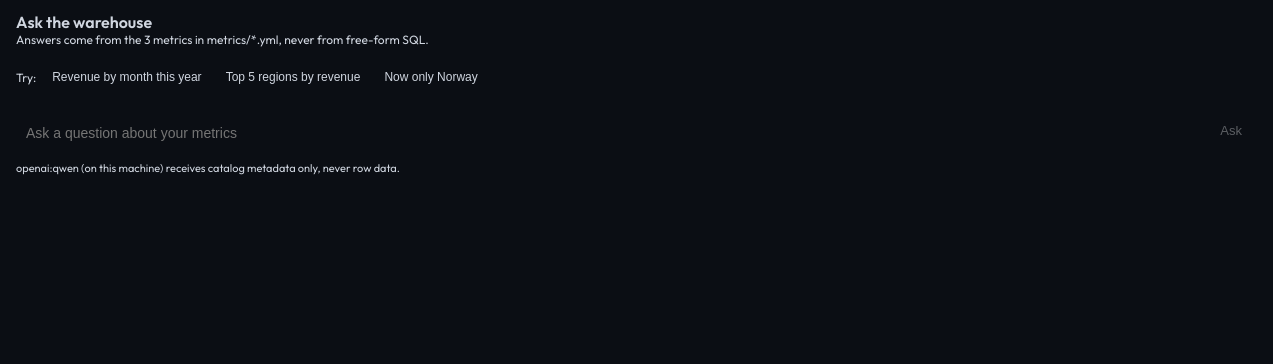
Test case: AskPanel › explains an unanswerable question and can save the suggested metric
Check: the text "on this machine" is shown, box [16, 161, 164, 175]
Type "avg order" into the field labelled "question".
click(607, 133); type("avg order")  # box [16, 117, 1198, 149]
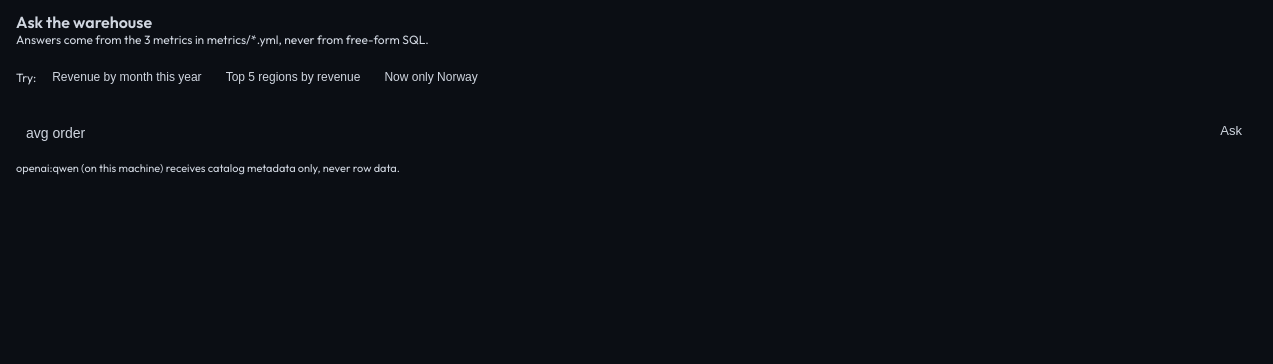
Click the button "Ask".
click(1231, 130)  # box [1206, 117, 1256, 144]
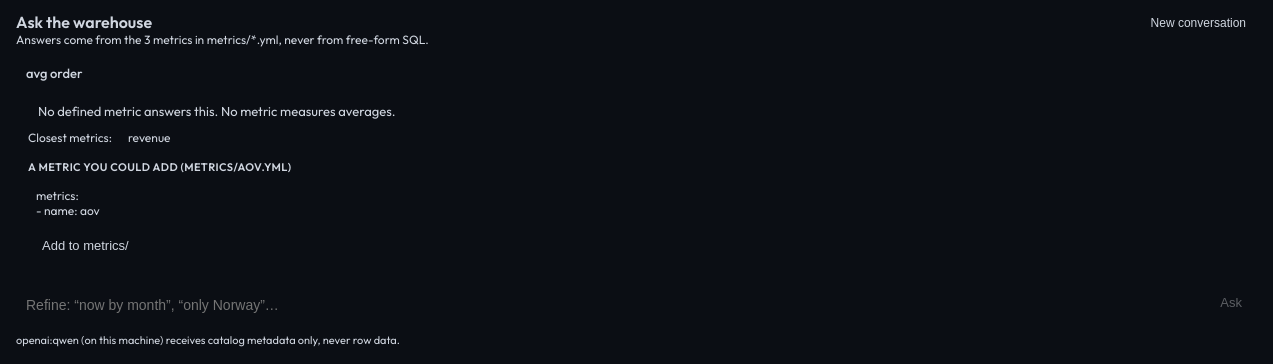
Check: the text "No defined metric answers this. No metric measures averages." is shown, box [38, 103, 396, 119]
Click the button "Add to metrics/".
click(85, 246)  # box [28, 232, 143, 259]
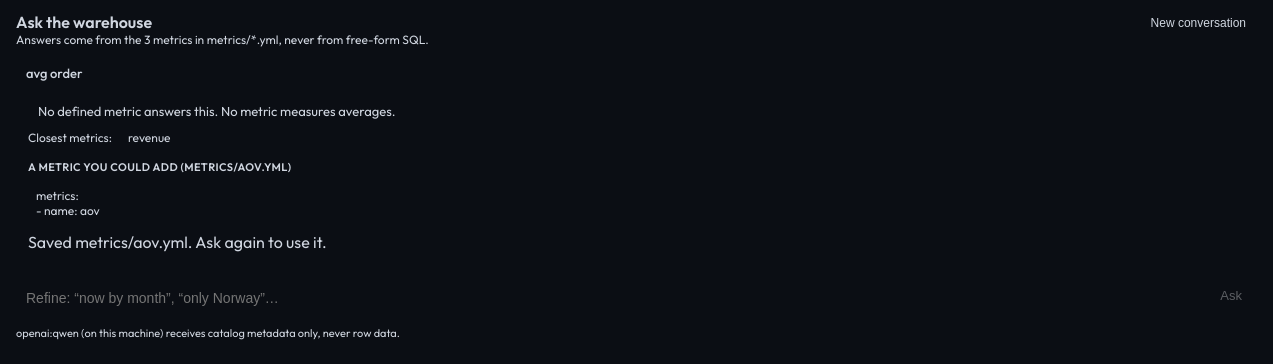
Check: the text "Saved metrics/aov.yml. Ask again to use it." is shown, box [28, 232, 327, 252]
